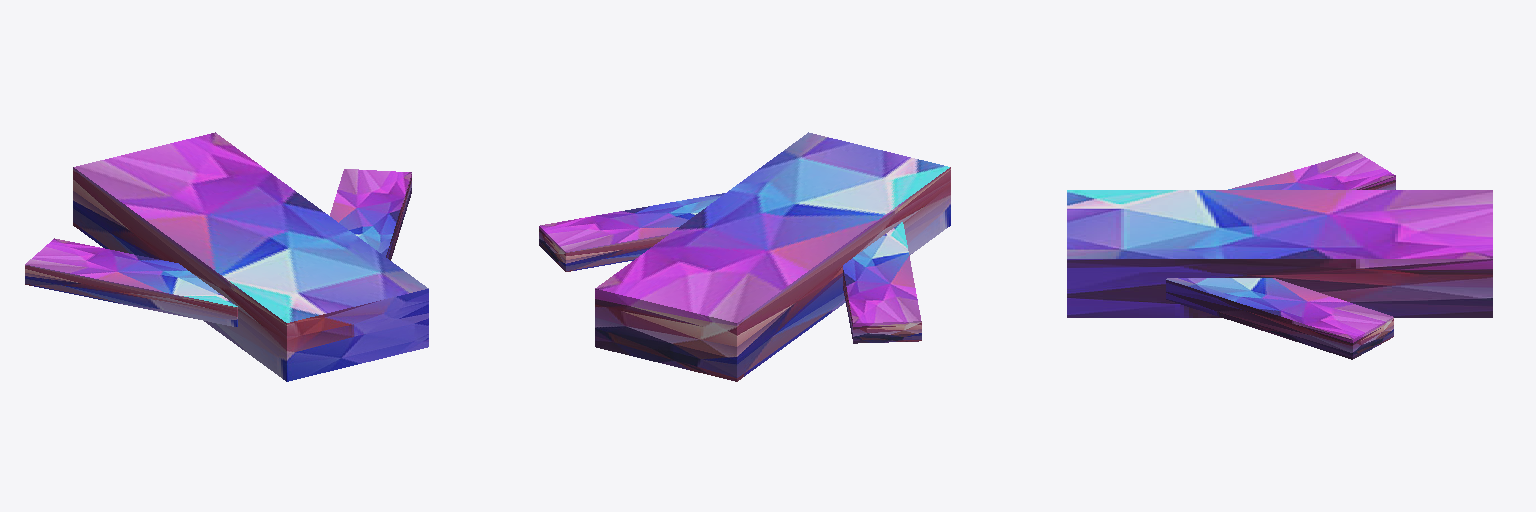
The picture shows the model from 3 angles: view 1: azimuth 30°, elevation 25°; view 2: azimuth 150°, elevation 25°; view 3: azimuth 270°, elevation 25°; orthographic projection.
Parts seen in each view (by area): view 1: Cube.001; view 2: Cube.001; view 3: Cube.001.
Part boxes in pixels (left/top/right/bottom): Cube.001: left=25, top=132, right=428, bottom=381; Cube.001: left=539, top=132, right=950, bottom=381; Cube.001: left=1067, top=152, right=1492, bottom=359.
Bounding box in the file's own units: 5.91 × 0.8612 × 5.68.
2 materials, 1 textured.